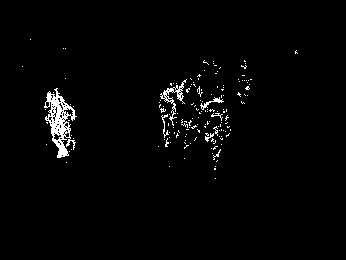person: (44, 89, 78, 161), (200, 93, 229, 175), (155, 80, 180, 151)
